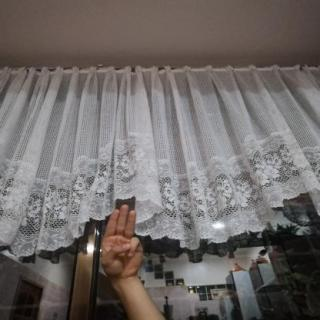THA: (92, 199, 150, 283)
